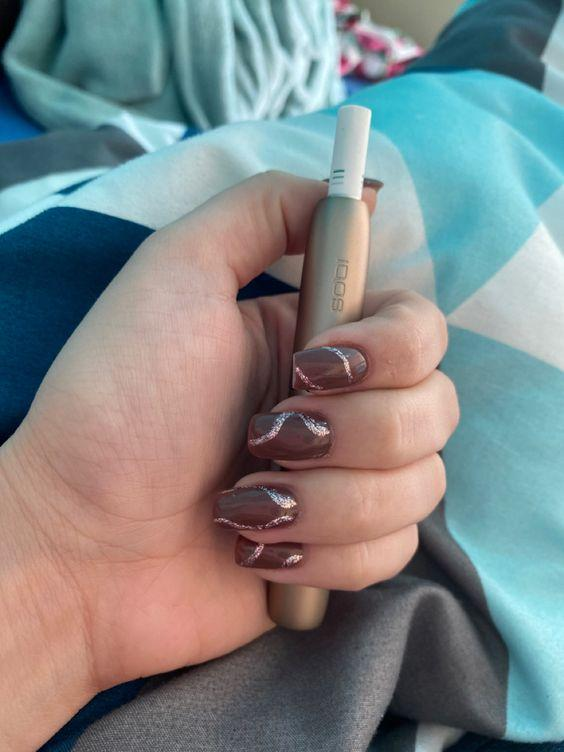iqos: (263, 106, 376, 629)
